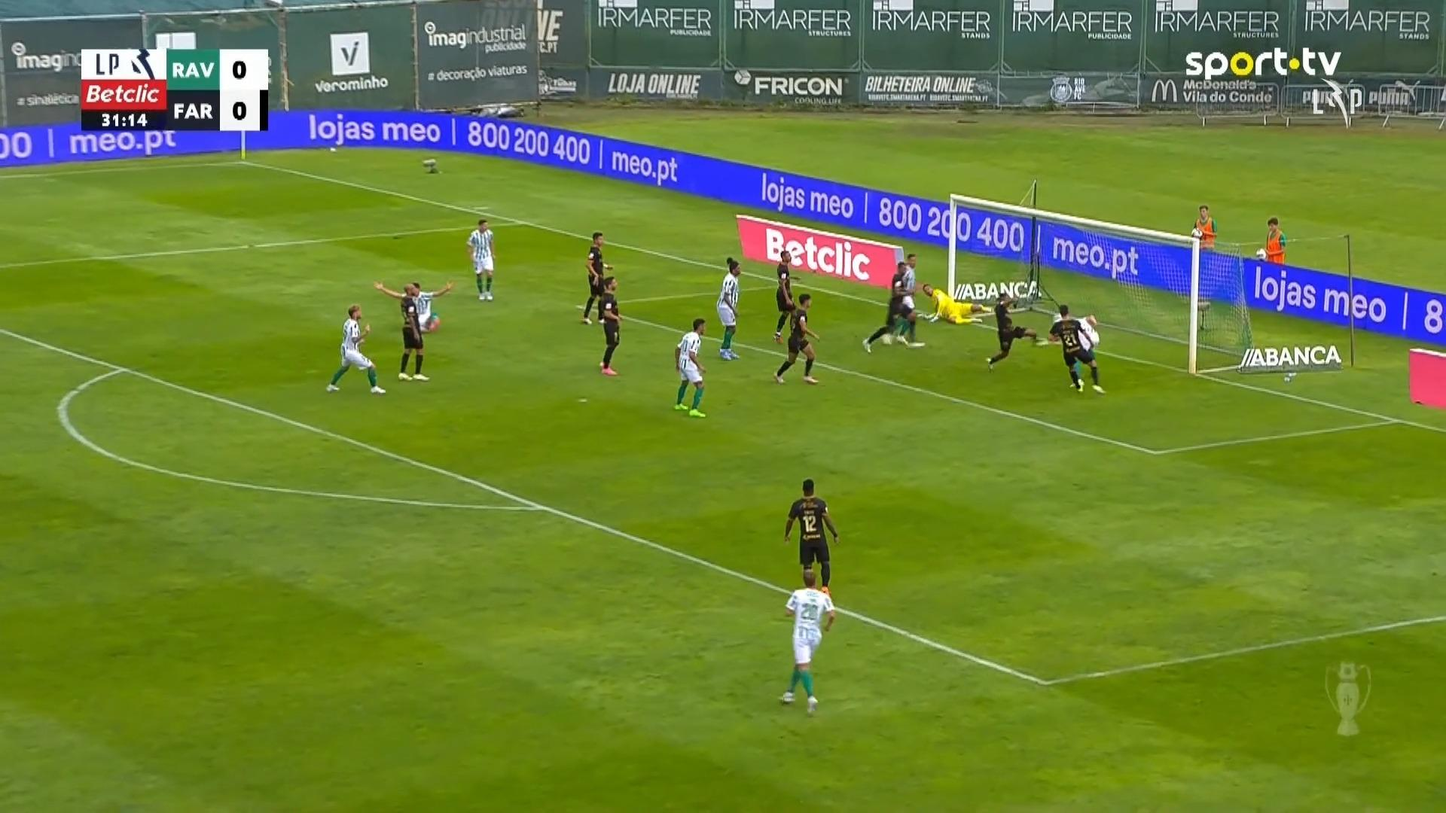goalkeeper: (921, 282, 990, 325)
player: (777, 568, 835, 715), (782, 477, 839, 594), (861, 258, 925, 352), (325, 303, 386, 394), (1048, 304, 1106, 394), (773, 293, 820, 384), (984, 292, 1037, 371), (373, 278, 449, 332), (672, 317, 706, 418), (889, 252, 923, 346), (398, 284, 430, 382), (580, 230, 612, 324), (715, 256, 741, 361), (596, 278, 622, 375), (465, 218, 495, 301), (772, 249, 798, 343), (886, 293, 926, 348), (1048, 305, 1098, 346)
